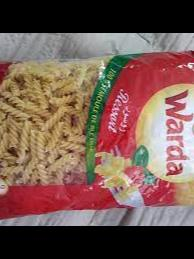Ressort: (0, 49, 194, 221)
